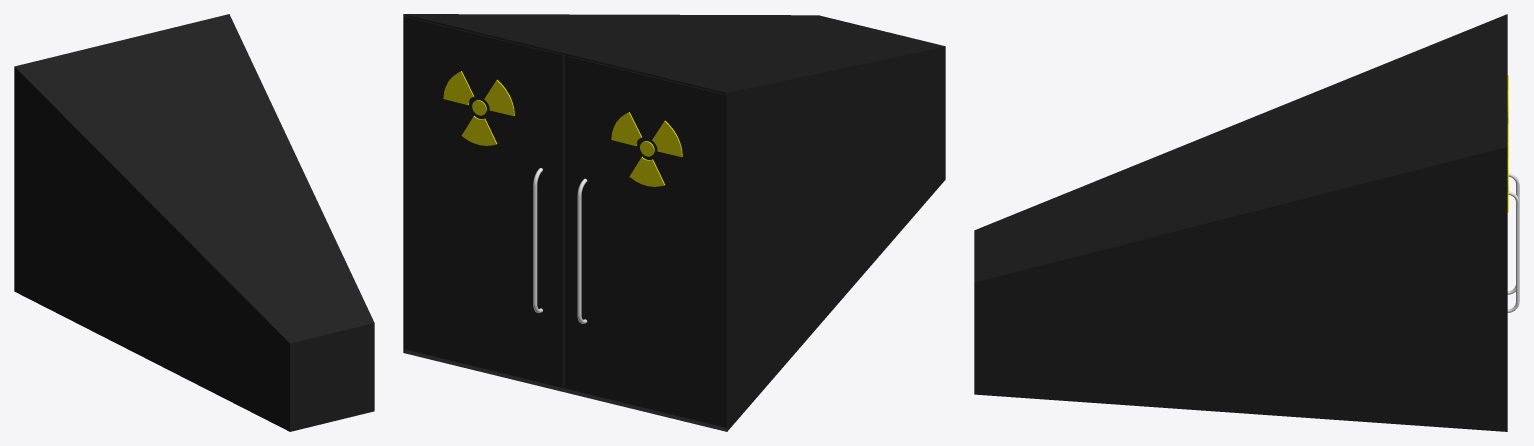
The model's file is sığınak girişi.fbx.
3 renders of one model, left to right at view 1: azimuth 30°, elevation 25°; view 2: azimuth 150°, elevation 25°; view 3: azimuth 270°, elevation 25°, orthographic. The views are drawn at different scales.
Visible parts, largest first — view 1: Cube.002; view 2: Cube.002, Cylinder.002, Cylinder.003, Cylinder.001, Cylinder; view 3: Cube.002, Cylinder.
Boxes of the visible parts, <box> form: Cube.002: <box>14,14,374,431</box>; Cube.002: <box>403,14,945,431</box>; Cylinder.002: <box>611,112,682,186</box>; Cylinder.003: <box>443,71,514,145</box>; Cylinder.001: <box>577,178,587,323</box>; Cylinder: <box>533,168,542,313</box>; Cube.002: <box>974,14,1507,431</box>; Cylinder: <box>1507,191,1519,312</box>.
Size of the model in its own units: 473 by 478 by 819.
